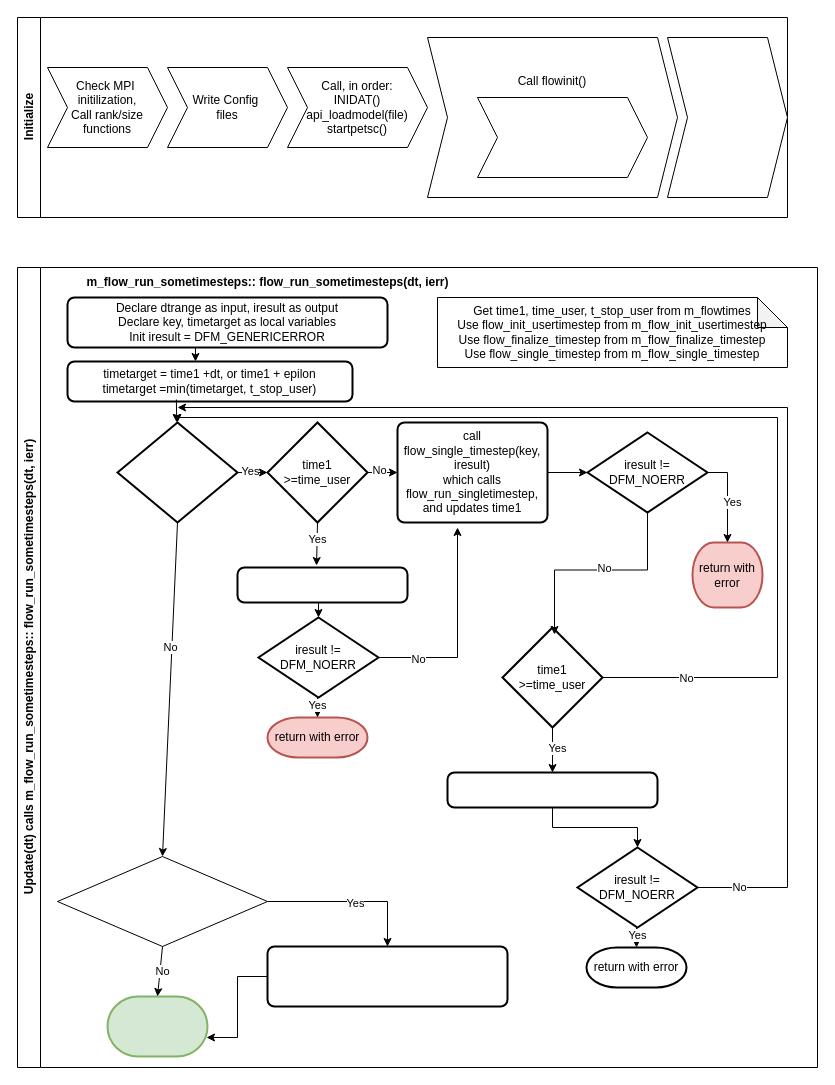
This 835x1085 diagram has some shape labels left out. The box of each missing label's shape, as (x1, y1, x2, y2) in pixels:
apply_transport_is_used: (56, 856, 268, 946)
call finish_outgoing_lat_concentration(dt) call get_lateal_colume_per_layer(..): (266, 945, 508, 1007)
call flow_finalize_usertimestep(iresult): (446, 771, 658, 808)
call flow_init_usertimestep(iresult): (236, 566, 408, 603)
In unstruc_api::flowinit() call m_flowmodelinit(): (476, 96, 648, 178)
return with success: (106, 995, 208, 1057)
time1 < timetarget: (116, 421, 238, 523)
time_user = tstart_user: (666, 36, 788, 198)
